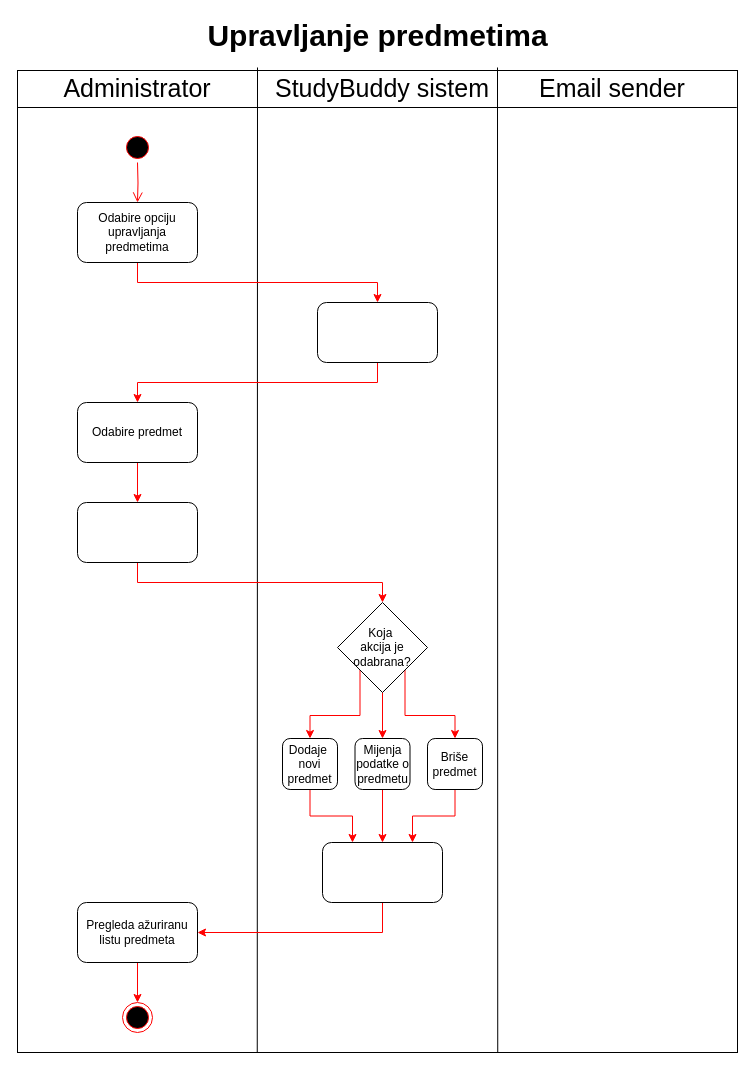
Image size: 756x1071. Some labels were removed from this diagram. Here are the shapes that lost their labels. From the top down, the centre of each, then its label:
(377,332): Prikazuje listu predmeta
(137,532): Bira akciju
(382,872): Ažurira listu predmeta
